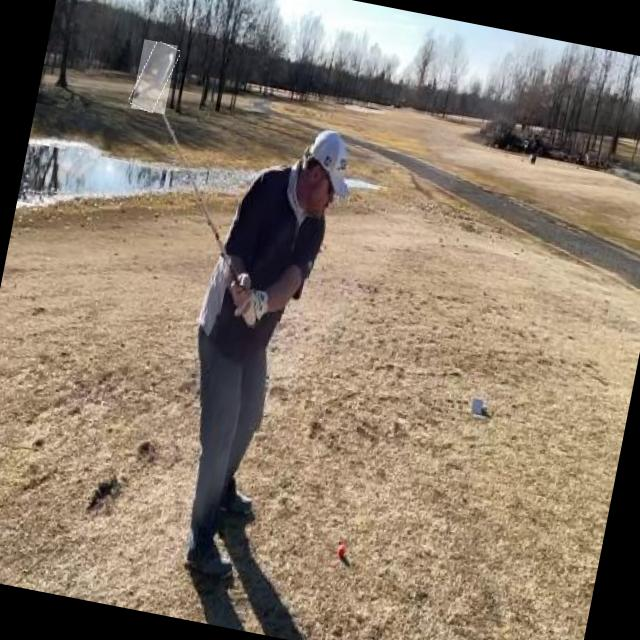club head: (131, 40, 178, 114)
